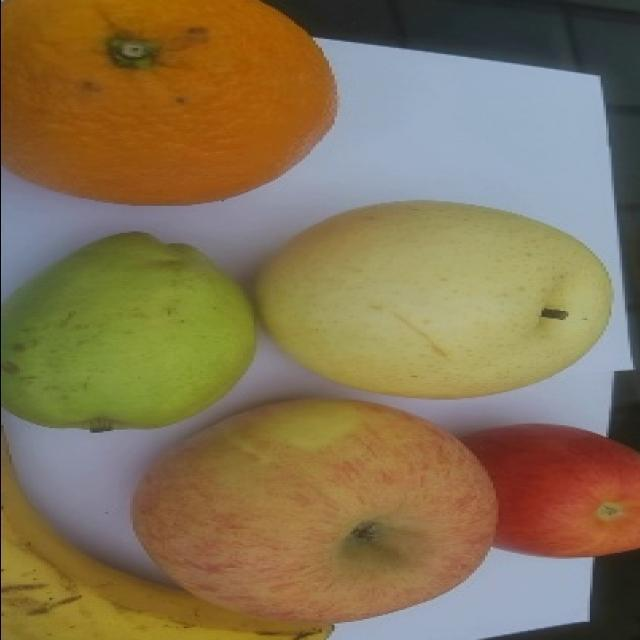Apple: (130, 395, 499, 625), (457, 422, 639, 558)
Orange: (1, 0, 338, 205)
